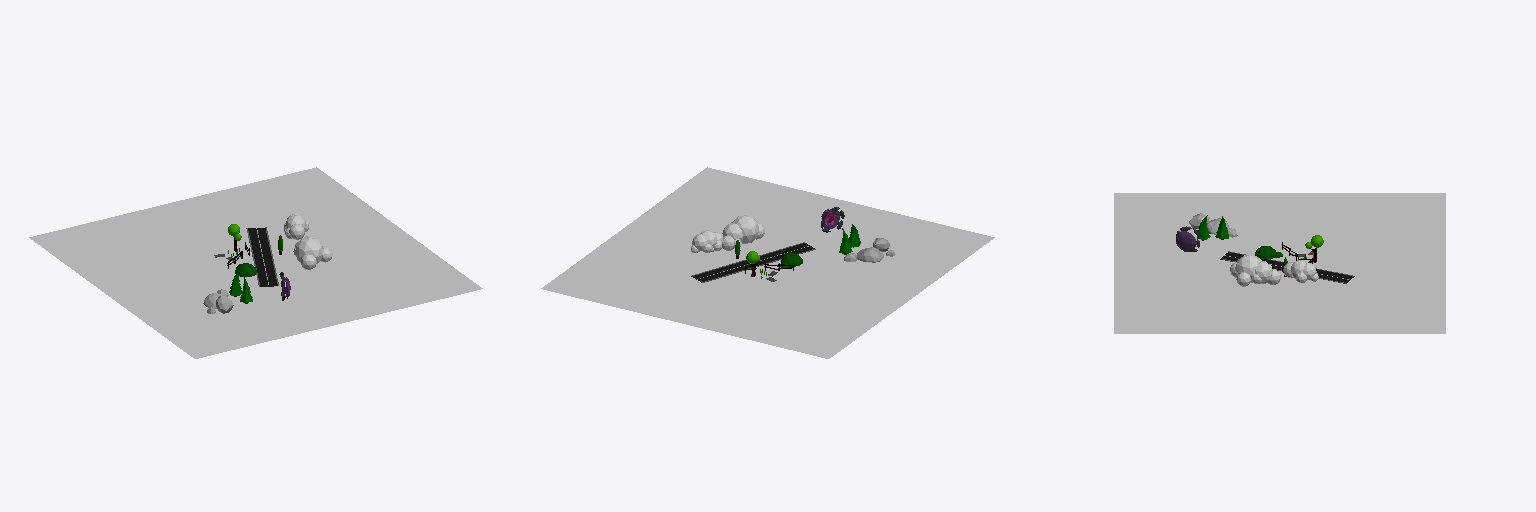
Rendered from lots_of_models.obj.
3 renders of one model, left to right at view 1: azimuth 30°, elevation 25°; view 2: azimuth 150°, elevation 25°; view 3: azimuth 270°, elevation 25°, orthographic.
Visible parts, largest first — view 1: Plane, Cube.016; view 2: Plane, Cube.016; view 3: Plane, Cube.016.
Part boxes in pixels (x1,y1,x2,y2): Plane: (29,167,482,358); Cube.016: (246,227,278,286); Plane: (541,167,994,358); Cube.016: (691,242,815,282); Plane: (1114,193,1445,333); Cube.016: (1220,251,1354,283).
Size of the model in its own units: 47.02 by 6.32 by 47.02.